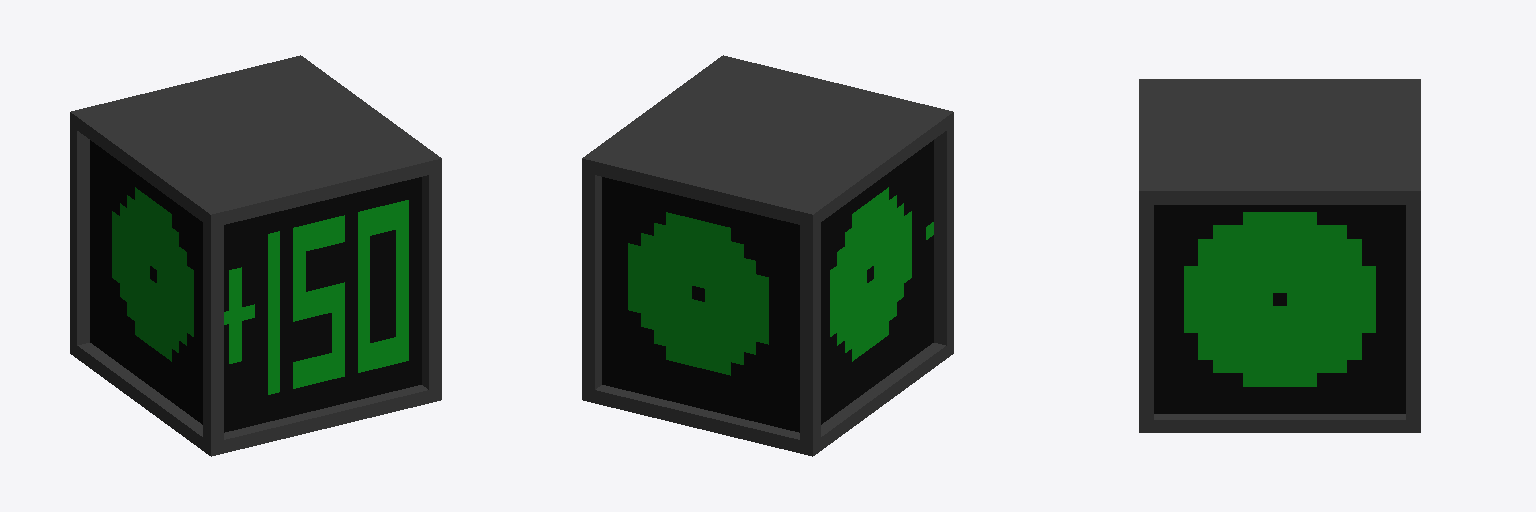
3 renders of one model, left to right at view 1: azimuth 30°, elevation 25°; view 2: azimuth 150°, elevation 25°; view 3: azimuth 270°, elevation 25°, orthographic.
Parts seen in each view (by area): view 1: plus150; view 2: plus150; view 3: plus150.
Boxes of the visible parts, x1=… form: plus150: x1=70, y1=55, x2=441, y2=456; plus150: x1=582, y1=55, x2=953, y2=456; plus150: x1=1139, y1=79, x2=1420, y2=432.
Bounding box in the file's own units: 18 × 18 × 19.
Materials: 1 (1 with a texture image).